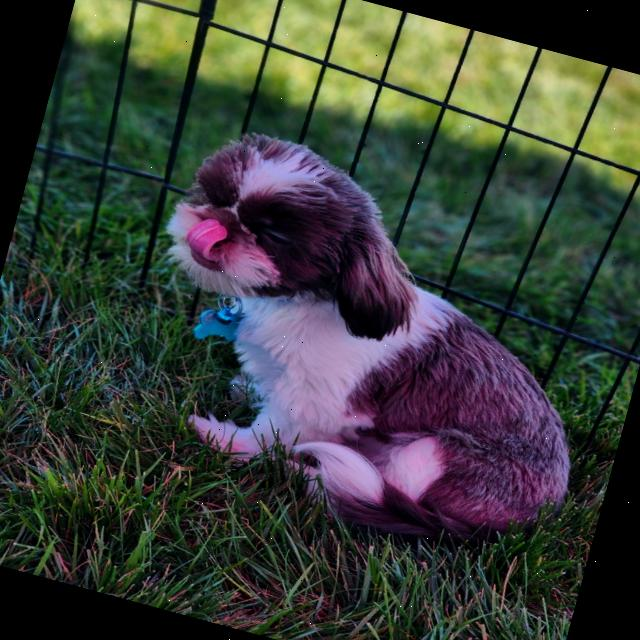shih_tzu_dog: (132, 100, 458, 371)
